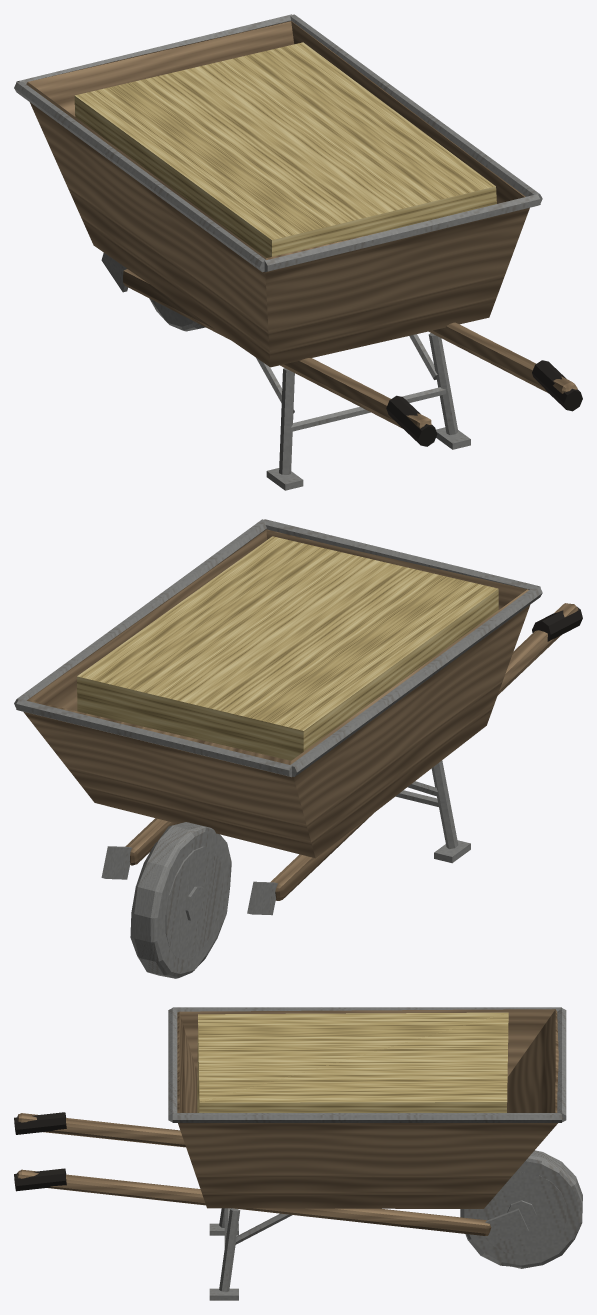
The model's file is wheelbarrow_loaded.glb.
3 renders of one model, top to bottom at view 1: azimuth 30°, elevation 25°; view 2: azimuth 150°, elevation 25°; view 3: azimuth 270°, elevation 25°, orthographic. The views are drawn at different scales.
Visible parts, largest first — view 1: WheelbarrowLoaded, HayFill, Wheel_L1; view 2: WheelbarrowLoaded, HayFill, Wheel_L1; view 3: WheelbarrowLoaded, HayFill, Wheel_L1.
Boxes of the visible parts, x1=… form: WheelbarrowLoaded: x1=14, y1=14, x2=582, y2=490; HayFill: x1=74, y1=42, x2=496, y2=257; Wheel_L1: x1=149, y1=298, x2=205, y2=331; WheelbarrowLoaded: x1=14, y1=519, x2=582, y2=915; HayFill: x1=77, y1=536, x2=498, y2=760; Wheel_L1: x1=130, y1=822, x2=231, y2=978; WheelbarrowLoaded: x1=14, y1=1007, x2=566, y2=1300; HayFill: x1=197, y1=1012, x2=508, y2=1112; Wheel_L1: x1=460, y1=1150, x2=582, y2=1268.
Size of the model in its own units: 1.04 by 0.9228 by 2.28.
4 materials, 3 textured.
